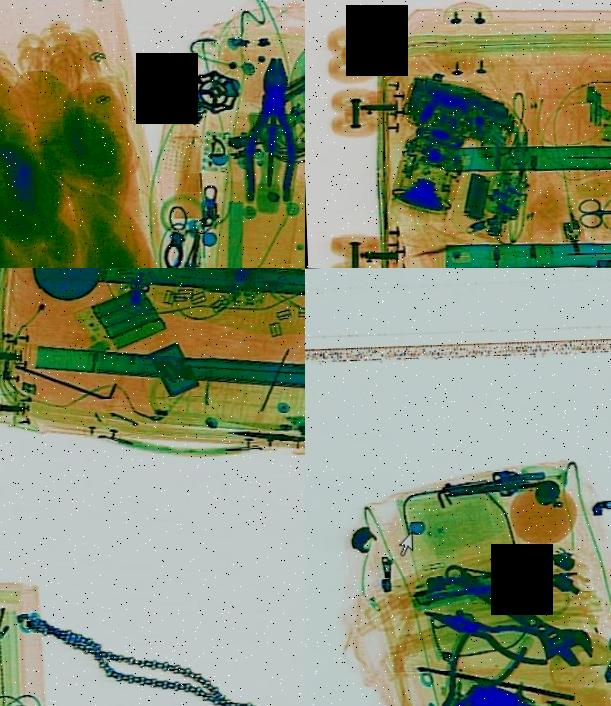Pliers: (408, 596, 534, 706), (420, 588, 555, 672), (239, 52, 305, 203)
Scissors: (577, 194, 611, 227)
Wrench: (438, 539, 599, 686)
